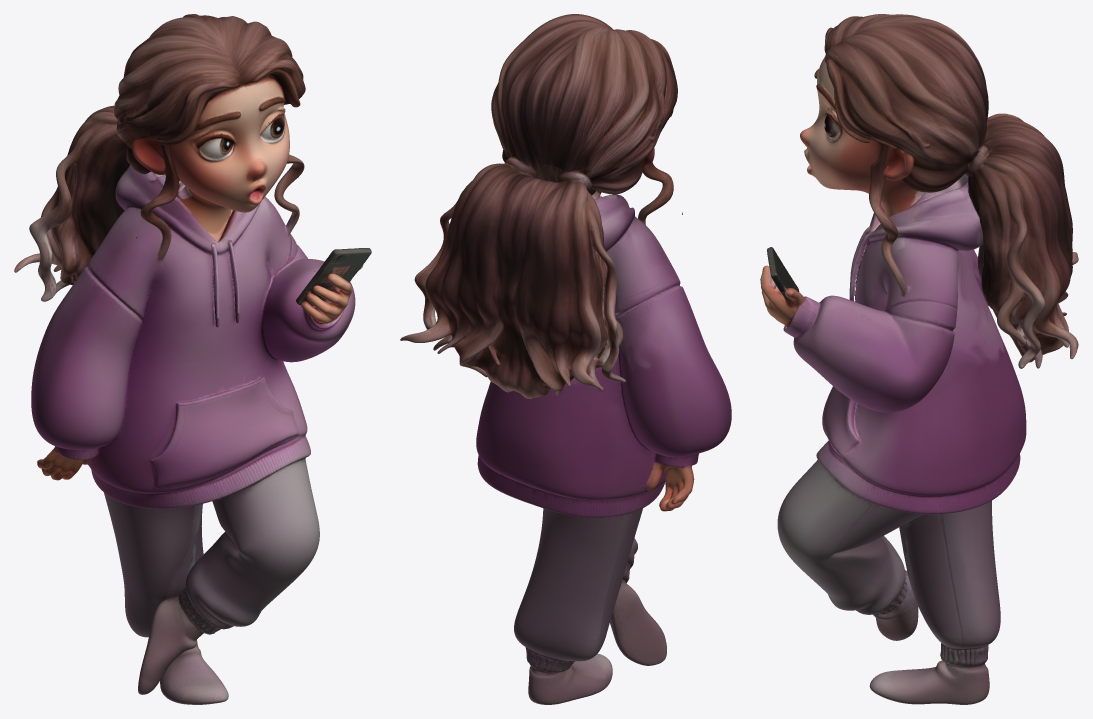
File: procastinator.glb
The picture shows the model from 3 angles, left to right: view 1: azimuth 30°, elevation 25°; view 2: azimuth 150°, elevation 25°; view 3: azimuth 270°, elevation 25°; orthographic projection. The views are drawn at different scales.
Bounding box in the file's own units: 0.8447 × 1.9 × 0.8096.
1 material, 1 textured.
